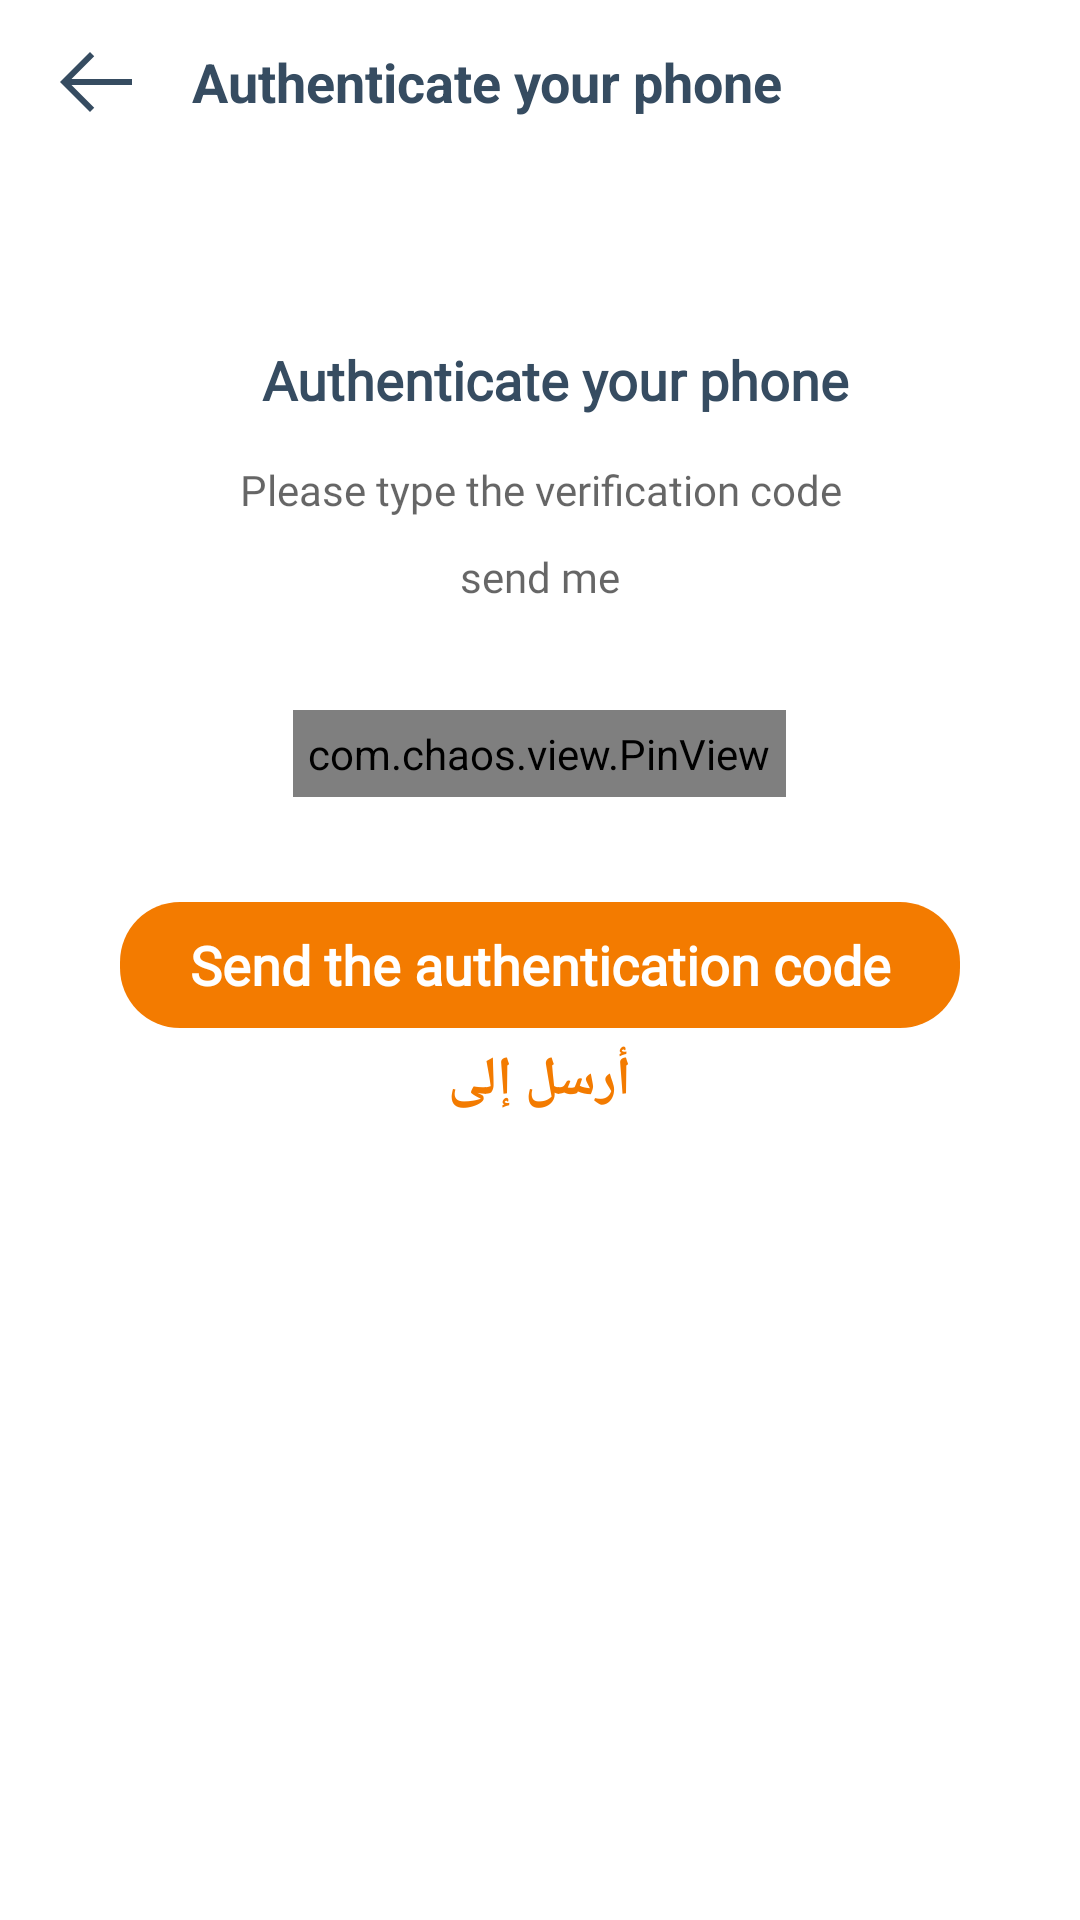

Screen size 1080 x 1920. Icon name, then its center in pixels as point (x, y):
back: point (96, 82)
